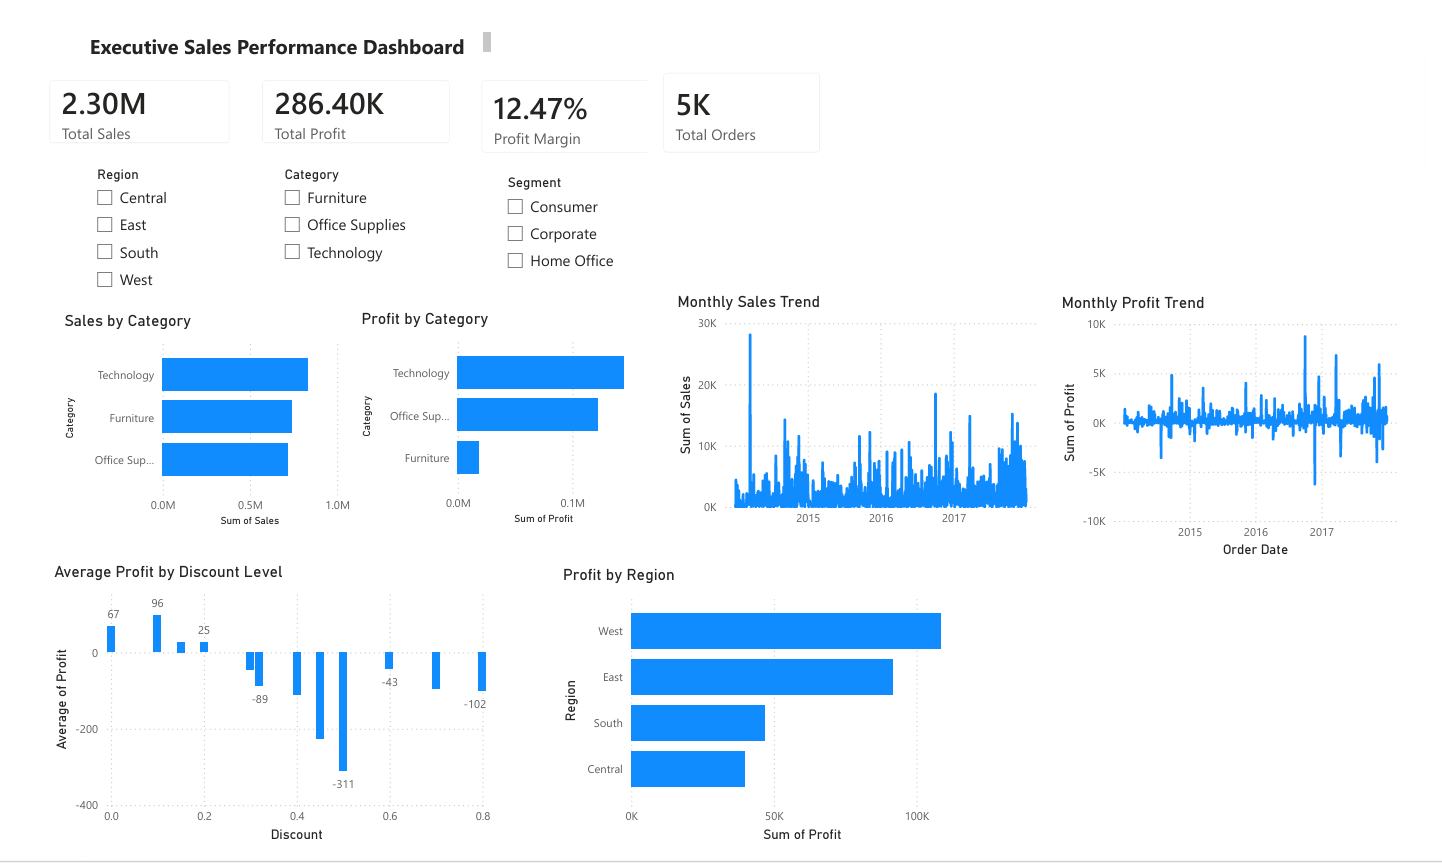

Layout of this report page (visuals, bound fields, positions):
{"tool":"powerbi","page":{"name":"Executive Dashboard","canvas":[1500,900],"ordinal":0},"visuals":[{"type":"cardVisual","fields":{"Data":["Sample_Superstore_Cleaned.Total Sales"]},"box":[15.1,49.4,226.4,101.5],"z":0},{"type":"cardVisual","fields":{"Data":["Sample_Superstore_Cleaned.Total Profit"]},"box":[241.5,49.4,234.6,101.5],"z":1000},{"type":"cardVisual","fields":{"Data":["Sample_Superstore_Cleaned.Profit Margin"]},"box":[476.2,49.4,219.6,111.1],"z":2000},{"type":"cardVisual","fields":{"Data":["Sample_Superstore_Cleaned.Total Orders"]},"box":[669.6,41.2,201.7,119.4],"z":3000},{"type":"textbox","box":[70.5,9.8,475.4,39.3],"z":4000},{"type":"clusteredBarChart","title":"Sales by Category","fields":{"Category":["Sample_Superstore_Cleaned.Category"],"Y":["Sum(Sample_Superstore_Cleaned.Sales)"]},"box":[43.3,311.7,315,235],"z":5000},{"type":"clusteredBarChart","title":"Profit by Category","fields":{"Category":["Sample_Superstore_Cleaned.Category"],"Y":["Sum(Sample_Superstore_Cleaned.Profit)"]},"box":[360,310,310,235],"z":6000},{"type":"lineChart","title":"Monthly Sales Trend","fields":{"Y":["Sum(Sample_Superstore_Cleaned.Sales)"],"Category":["Sample_Superstore_Cleaned.Order Date"]},"box":[696.7,291.7,395,273.3],"z":7000},{"type":"lineChart","title":"Monthly Profit Trend","fields":{"Y":["Sum(Sample_Superstore_Cleaned.Profit)"],"Category":["Sample_Superstore_Cleaned.Order Date"]},"box":[1106.7,293.3,370,286.7],"z":8000},{"type":"clusteredBarChart","title":"Profit by Region","fields":{"Y":["Sum(Sample_Superstore_Cleaned.Profit)"],"Category":["Sample_Superstore_Cleaned.Region"]},"box":[575,583.3,461.7,300],"z":9000},{"type":"slicer","fields":{"Values":["Sample_Superstore_Cleaned.Region"]},"box":[70,153.3,150,148.3],"z":10000},{"type":"slicer","fields":{"Values":["Sample_Superstore_Cleaned.Category"]},"box":[270,153.3,193.3,158.3],"z":11000},{"type":"slicer","fields":{"Values":["Sample_Superstore_Cleaned.Segment"]},"box":[508.3,161.7,246.7,126.7],"z":12000},{"type":"clusteredColumnChart","title":"Average Profit by Discount Level","fields":{"Y":["Avg(Sample_Superstore_Cleaned.Profit)"],"Category":["Sample_Superstore_Cleaned.Discount"]},"box":[31.7,580,476.7,303.3],"z":13000}]}

Visuals, with their boxes in screenshot pixels (x1, y1, x2, y2), scaled from the page's 1500x900 canvas onto the 1442x863 screenshot:
cardVisual - Sample_Superstore_Cleaned.Total Sales: BBox(15, 47, 232, 145)
cardVisual - Sample_Superstore_Cleaned.Total Profit: BBox(232, 47, 458, 145)
cardVisual - Sample_Superstore_Cleaned.Profit Margin: BBox(458, 47, 669, 154)
cardVisual - Sample_Superstore_Cleaned.Total Orders: BBox(644, 40, 838, 154)
textbox: BBox(68, 9, 525, 47)
"Sales by Category" clusteredBarChart: BBox(42, 299, 344, 524)
"Profit by Category" clusteredBarChart: BBox(346, 297, 644, 523)
"Monthly Sales Trend" lineChart: BBox(670, 280, 1049, 542)
"Monthly Profit Trend" lineChart: BBox(1064, 281, 1420, 556)
"Profit by Region" clusteredBarChart: BBox(553, 559, 997, 847)
slicer - Sample_Superstore_Cleaned.Region: BBox(67, 147, 211, 289)
slicer - Sample_Superstore_Cleaned.Category: BBox(260, 147, 445, 299)
slicer - Sample_Superstore_Cleaned.Segment: BBox(489, 155, 726, 277)
"Average Profit by Discount Level" clusteredColumnChart: BBox(30, 556, 489, 847)
